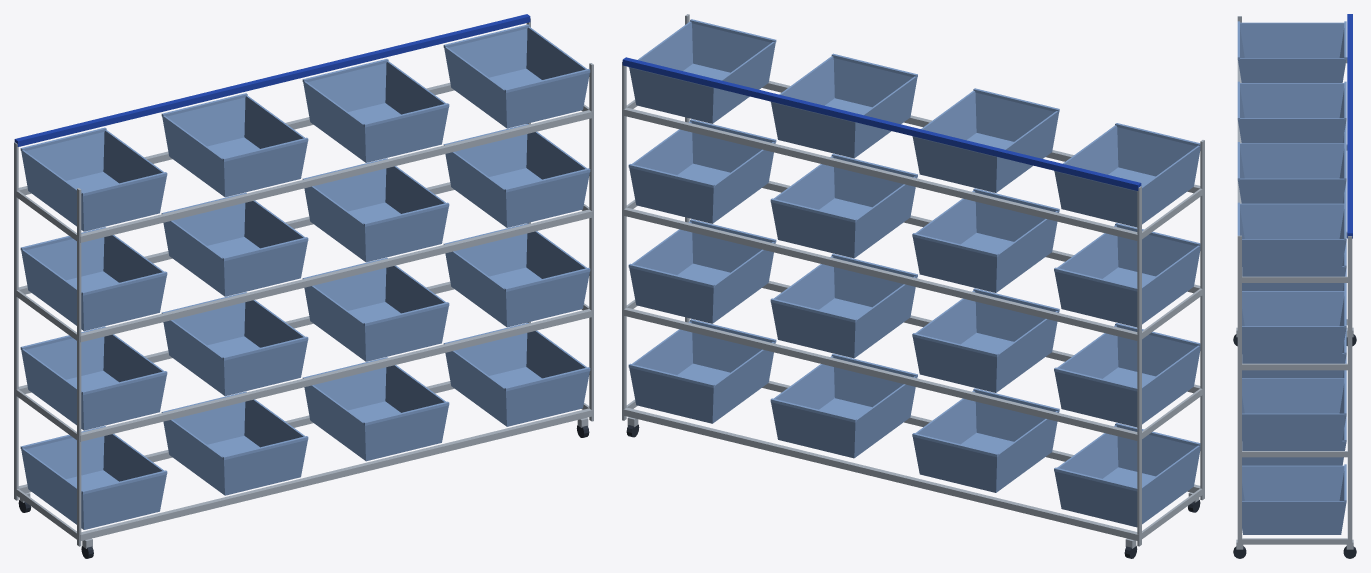
The model's file is SM_MPR_SorterSimCart64_3.fbx.
The picture shows the model from 3 angles, left to right: view 1: azimuth 30°, elevation 25°; view 2: azimuth 150°, elevation 25°; view 3: azimuth 270°, elevation 25°; orthographic projection. The views are drawn at different scales.
Visible parts, largest first — view 1: SM_MPR_SorterSimCart64_3; view 2: SM_MPR_SorterSimCart64_3; view 3: SM_MPR_SorterSimCart64_3.
Boxes of the visible parts, box(x1,y1,x2,y2) form: SM_MPR_SorterSimCart64_3: box(14, 14, 593, 558); SM_MPR_SorterSimCart64_3: box(622, 14, 1204, 558); SM_MPR_SorterSimCart64_3: box(1233, 14, 1356, 558).
Bounding box in the file's own units: 241 × 56.9 × 167.
